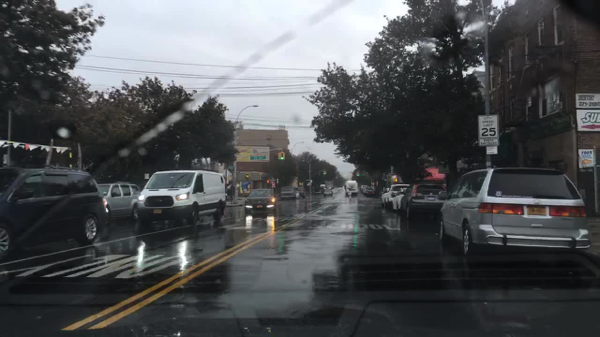bus: (344, 179, 359, 196)
car: (436, 165, 592, 257), (0, 164, 110, 258), (136, 169, 228, 228), (95, 182, 144, 223), (400, 182, 447, 218), (243, 187, 278, 216), (380, 184, 413, 209), (390, 186, 409, 212), (280, 186, 296, 201), (294, 186, 307, 199), (364, 187, 376, 197), (324, 179, 334, 190), (322, 189, 334, 198), (361, 186, 370, 195), (319, 184, 326, 195), (360, 184, 367, 193), (294, 191, 301, 199)
person: (347, 187, 354, 201)
traffic light: (392, 176, 399, 184), (280, 151, 286, 160), (277, 152, 282, 161), (266, 178, 272, 184), (355, 172, 360, 177), (323, 170, 327, 175)
traffic sign: (477, 114, 500, 146), (486, 146, 498, 154), (250, 156, 267, 161), (305, 179, 312, 184)
